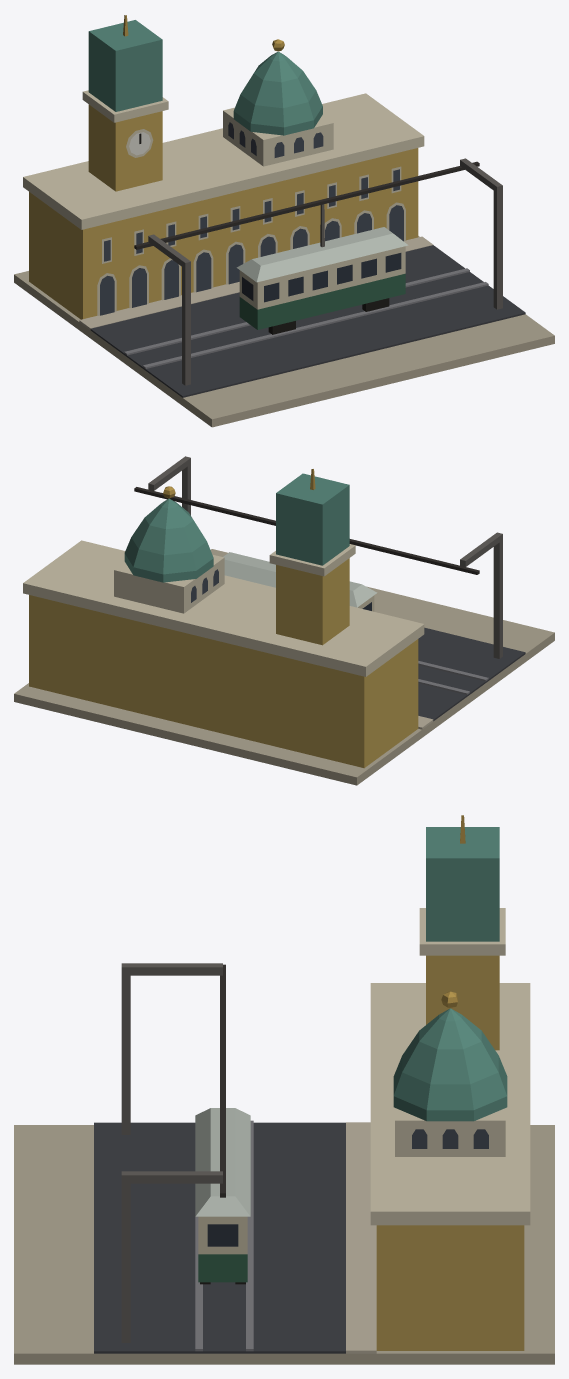
Rendered from tramMelbourne.glb.
The picture shows the model from 3 angles, top to bottom: view 1: azimuth 30°, elevation 25°; view 2: azimuth 150°, elevation 25°; view 3: azimuth 270°, elevation 25°; orthographic projection. The views are drawn at different scales.
Visible parts, largest first — view 1: tramMelbourne; view 2: tramMelbourne; view 3: tramMelbourne.
Boxes of the visible parts, <box> form: tramMelbourne: <box>14,15,554,427</box>; tramMelbourne: <box>14,456,554,785</box>; tramMelbourne: <box>14,815,554,1364</box>.
Size of the model in its own units: 1.76 by 1.34 by 1.76.
